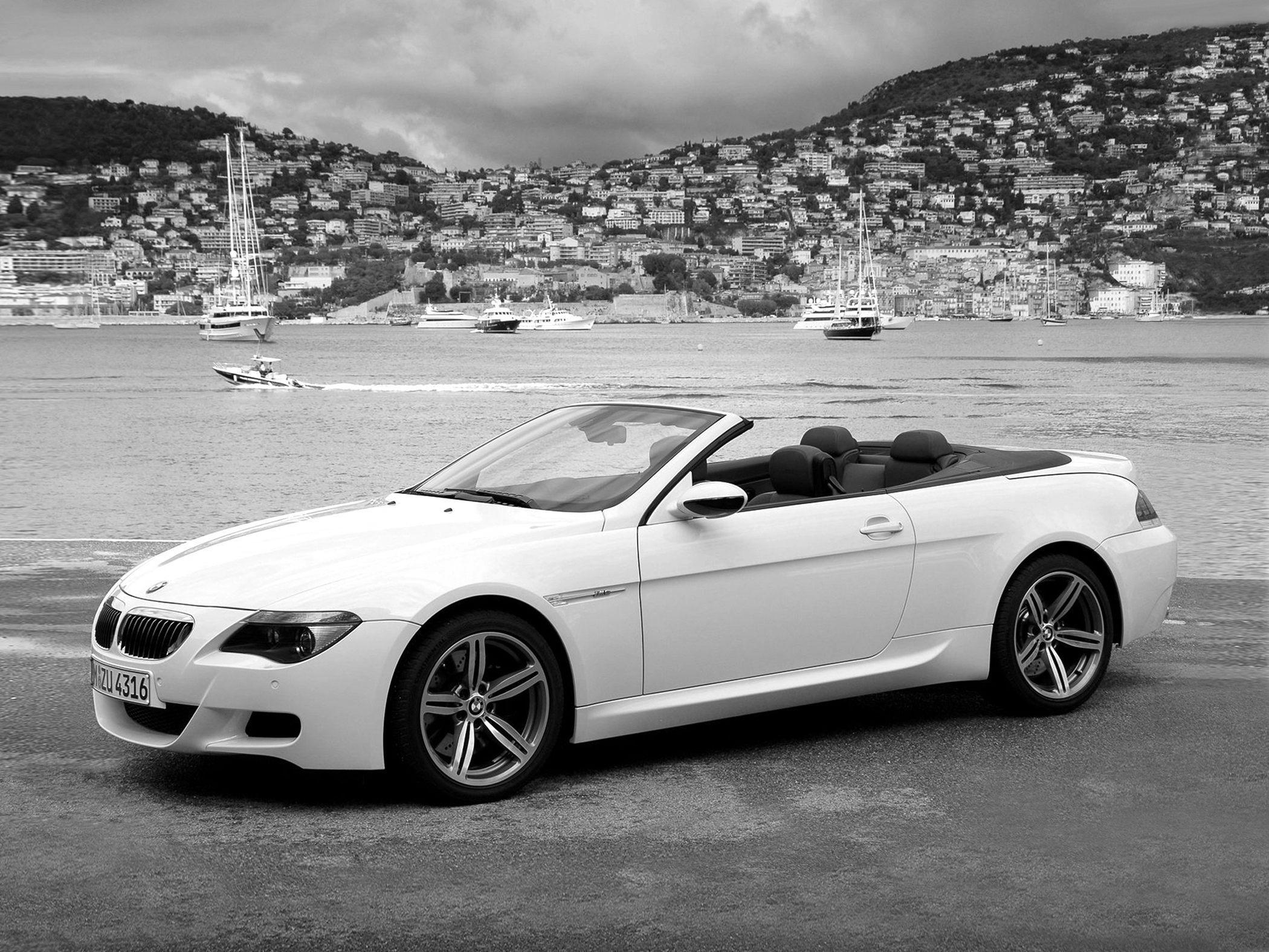car: (94, 393, 1190, 803)
